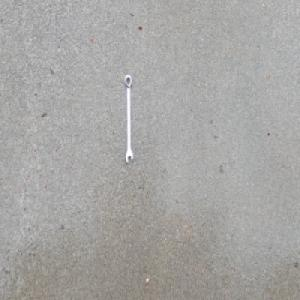Wrench: (124, 73, 134, 165)
